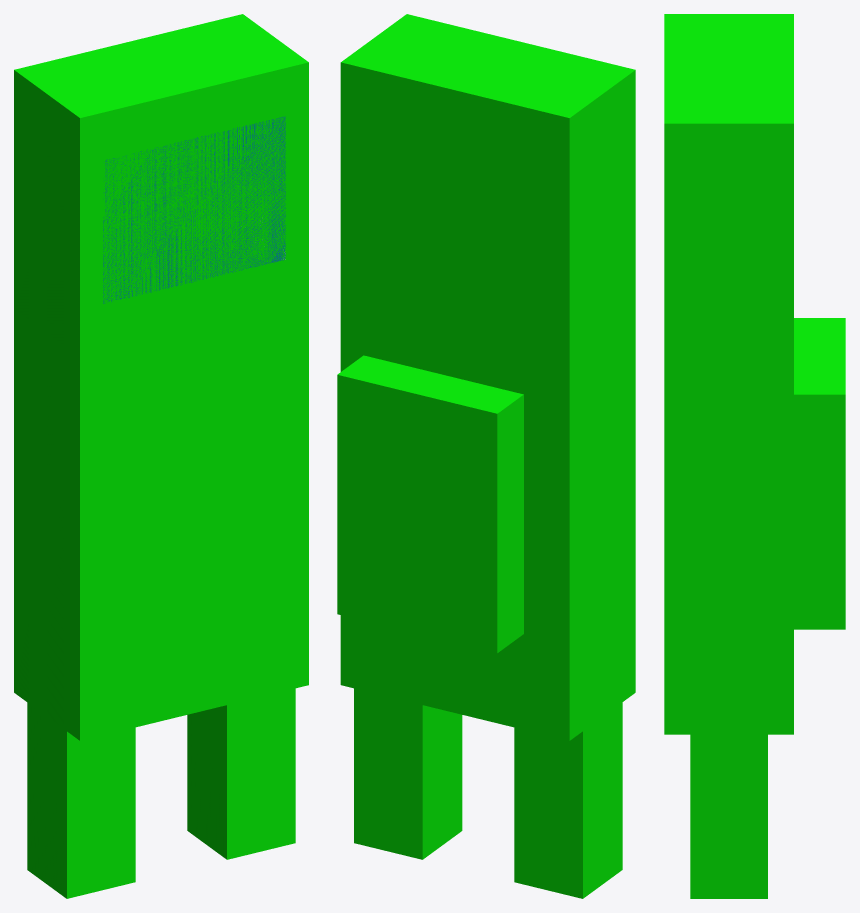
The model's file is Among Us Char(LightGreen).gltf.
3 renders of one model, left to right at view 1: azimuth 30°, elevation 25°; view 2: azimuth 150°, elevation 25°; view 3: azimuth 270°, elevation 25°, orthographic.
Parts seen in each view (by area): view 1: 05df4ede-f837-c188-2e33-ef64abd97eee, cc3eb372-91fc-9da0-78a3-6f8f9a1f2dee, 3fa73543-9e25-d95c-6e87-302f2be02166, 2d3a24b5-ea57-e50f-346a-9413c0539ccd, 9b6c5594-3cbf-47c0-bc0a-358ef91bbe2c; view 2: cc3eb372-91fc-9da0-78a3-6f8f9a1f2dee, 05df4ede-f837-c188-2e33-ef64abd97eee, 5496d620-28b4-4bca-3728-1c5a1bee6332, 3fa73543-9e25-d95c-6e87-302f2be02166, 2d3a24b5-ea57-e50f-346a-9413c0539ccd; view 3: 05df4ede-f837-c188-2e33-ef64abd97eee, cc3eb372-91fc-9da0-78a3-6f8f9a1f2dee, 5496d620-28b4-4bca-3728-1c5a1bee6332, 2d3a24b5-ea57-e50f-346a-9413c0539ccd.
Part boxes in pixels (x1,y1,x2,y2): 05df4ede-f837-c188-2e33-ef64abd97eee: [14, 302, 308, 740]; cc3eb372-91fc-9da0-78a3-6f8f9a1f2dee: [14, 14, 308, 357]; 3fa73543-9e25-d95c-6e87-302f2be02166: [27, 702, 135, 898]; 2d3a24b5-ea57-e50f-346a-9413c0539ccd: [187, 688, 295, 859]; 9b6c5594-3cbf-47c0-bc0a-358ef91bbe2c: [103, 116, 285, 303]; cc3eb372-91fc-9da0-78a3-6f8f9a1f2dee: [340, 14, 635, 357]; 05df4ede-f837-c188-2e33-ef64abd97eee: [340, 302, 635, 740]; 5496d620-28b4-4bca-3728-1c5a1bee6332: [337, 355, 523, 653]; 3fa73543-9e25-d95c-6e87-302f2be02166: [514, 702, 622, 898]; 2d3a24b5-ea57-e50f-346a-9413c0539ccd: [354, 688, 462, 859]; 05df4ede-f837-c188-2e33-ef64abd97eee: [664, 358, 793, 734]; cc3eb372-91fc-9da0-78a3-6f8f9a1f2dee: [664, 14, 793, 358]; 5496d620-28b4-4bca-3728-1c5a1bee6332: [794, 318, 845, 629]; 2d3a24b5-ea57-e50f-346a-9413c0539ccd: [690, 734, 767, 898].
Bounding box in the file's own units: 0.625 × 2.06 × 0.4375.
Materials: 4 (4 with a texture image).
